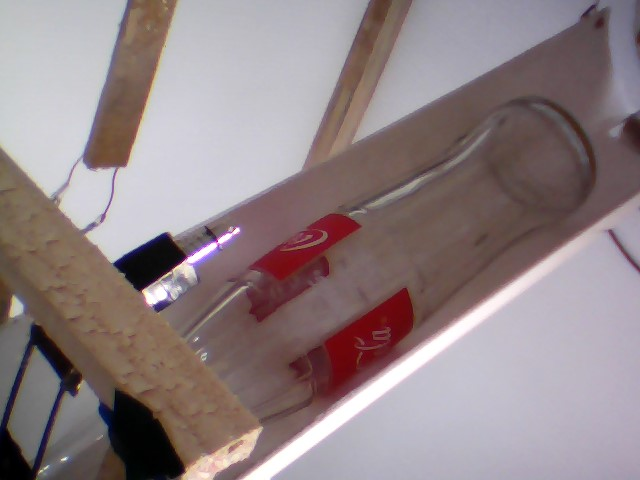vidrio: (167, 90, 606, 428)
